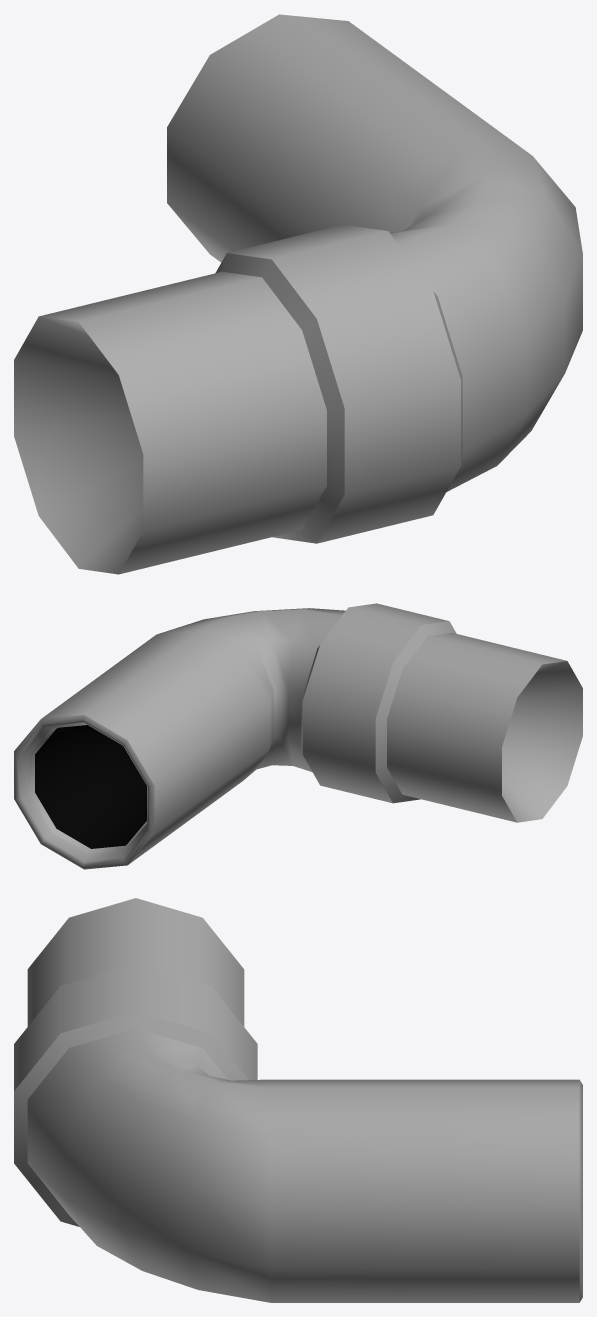
The model's file is prop_vent2_rounded.fbx.
3 renders of one model, top to bottom at view 1: azimuth 30°, elevation 25°; view 2: azimuth 150°, elevation 25°; view 3: azimuth 270°, elevation 25°, orthographic. The views are drawn at different scales.
Visible parts, largest first — view 1: prop_vent10; view 2: prop_vent10; view 3: prop_vent10.
Part boxes in pixels (box(x1,y1,x2,y2)): prop_vent10: box(14, 14, 582, 574); prop_vent10: box(14, 603, 582, 869); prop_vent10: box(14, 898, 582, 1302).
Size of the model in its own units: 385 by 177 by 393.
